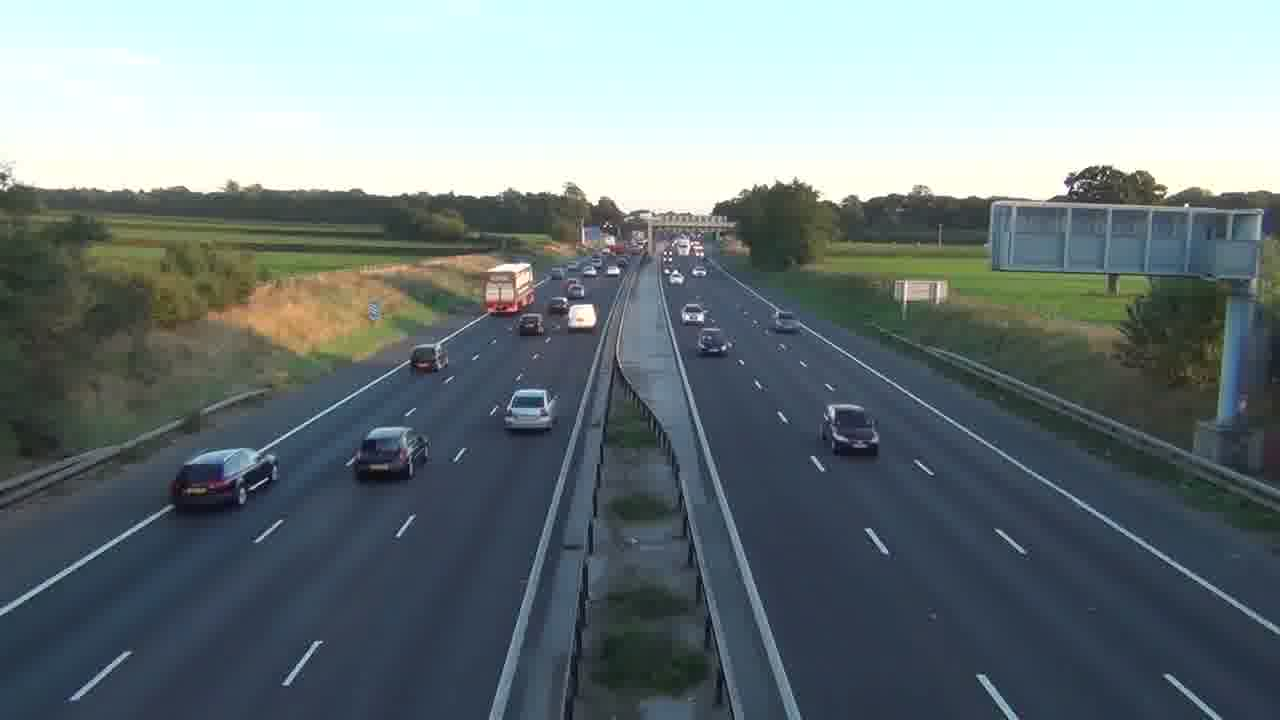bus: (483, 261, 534, 316)
car: (169, 447, 278, 511), (350, 425, 430, 481), (821, 402, 880, 456), (504, 387, 557, 434), (516, 313, 544, 336), (681, 304, 706, 325)
